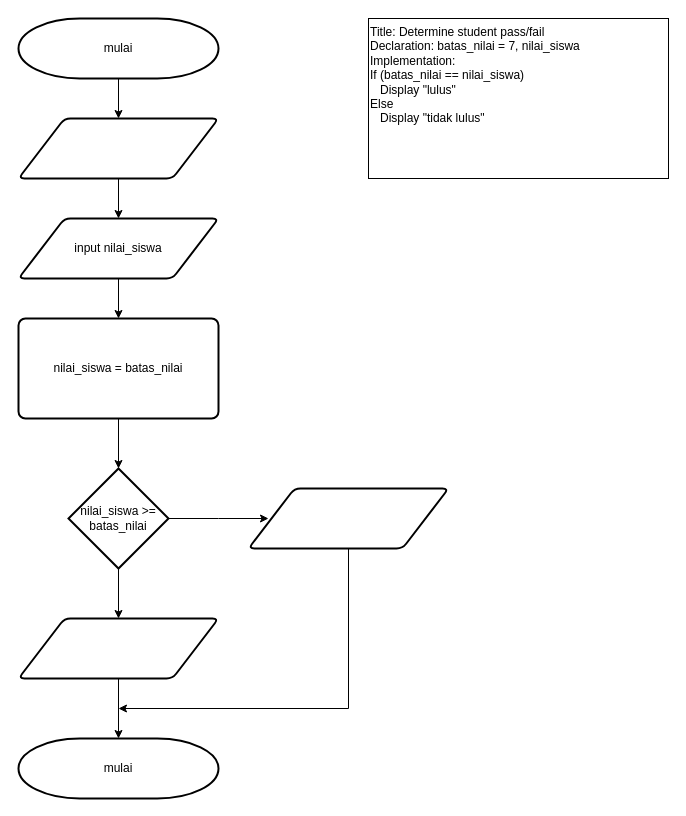
Some shapes in this 686 by 816 pixel diagram are drawn without their labels. The centre of each missing label's shape, as x and y in pixels:
input batas_nilai = 7: the point at 118,148
lulus: the point at 348,518
tidak lulus: the point at 118,648
